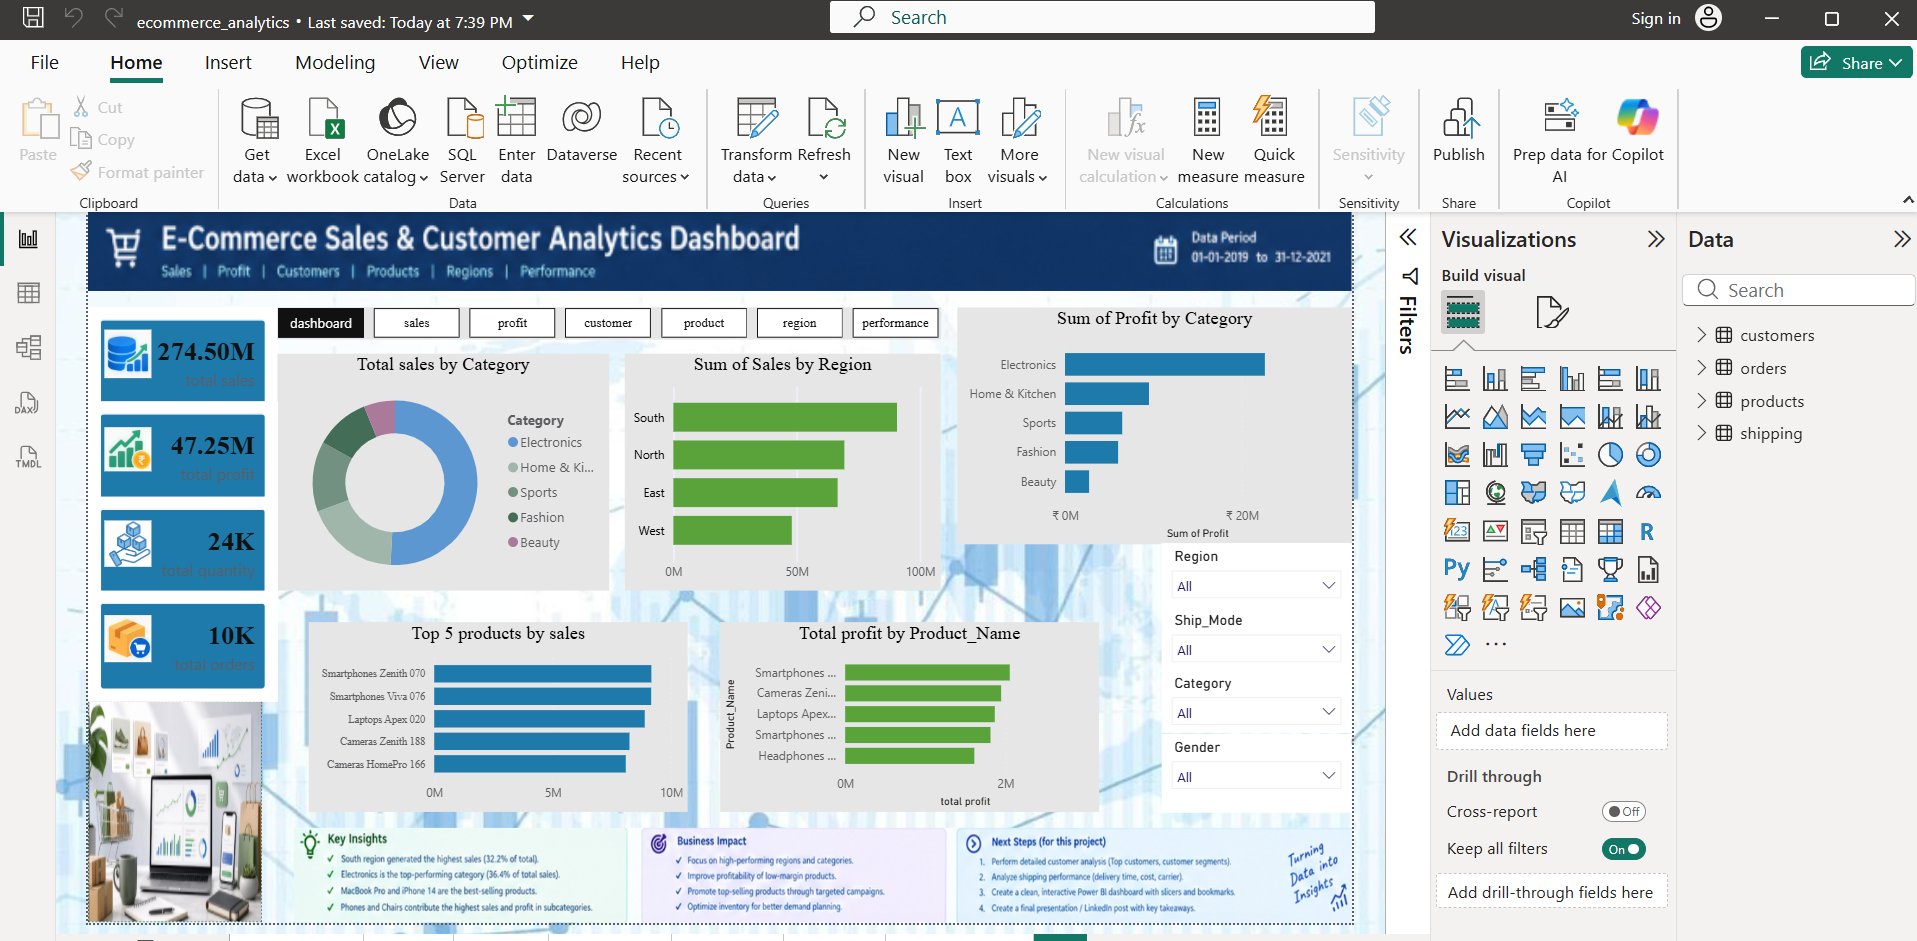

What the dashboard file says about the page in this screenshot:
{"tool":"powerbi","page":{"name":"dashboard","canvas":[1280,720],"ordinal":0},"visuals":[{"type":"cardVisual","fields":{"Data":[" orders.total sales"]},"box":[0,96,192,112],"z":0},{"type":"clusteredBarChart","fields":{"Category":[" customers.Region"],"Y":["Sum( orders.Sales)"]},"box":[544,144,320,240],"z":1000},{"type":"donutChart","title":"Total sales by Category","fields":{"Category":[" products.Category"],"Y":[" orders.total sales"]},"box":[192,144,336,240],"z":2000},{"type":"clusteredBarChart","fields":{"Category":[" products.Category"],"Y":["Sum( orders.Profit)"]},"box":[880,96,400,240],"z":3000},{"type":"image","box":[0,496,176,224],"z":4000},{"type":"image","box":[0,0,1280,80],"z":5000},{"type":"clusteredBarChart","title":"Top 5 products by sales","fields":{"Y":[" orders.total sales"],"Category":[" products.Product_Name"]},"box":[224,416,384,192],"z":6000},{"type":"clusteredBarChart","title":"Total profit by Product_Name","fields":{"Category":[" products.Product_Name"],"Y":[" orders.total profit"]},"box":[640,416,384,192],"z":7000},{"type":"image","box":[16,112,48,64],"z":8000},{"type":"cardVisual","fields":{"Data":[" orders.total profit"]},"box":[0,192,192,112],"z":9000},{"type":"cardVisual","fields":{"Data":[" orders.total quantity"]},"box":[0,288,192,112],"z":10000},{"type":"cardVisual","fields":{"Data":[" orders.total orders"]},"box":[0,384,192,112],"z":11000},{"type":"image","box":[16,208,48,64],"z":12000},{"type":"image","box":[16,400,48,64],"z":13000},{"type":"image","box":[16,304,48,64],"z":14000},{"type":"slicer","fields":{"Values":[" customers.Region"]},"box":[1088,336,192,80],"z":15000},{"type":"slicer","fields":{"Values":[" shipping.Ship_Mode"]},"box":[1088,400,192,80],"z":16000},{"type":"slicer","fields":{"Values":[" products.Category"]},"box":[1088,464,192,64],"z":17000},{"type":"slicer","fields":{"Values":[" customers.Gender"]},"box":[1088,528,192,80],"z":18000},{"type":"image","box":[208,624,1072,96],"z":19000},{"type":"pageNavigator","box":[192,96,672,32],"z":20000}]}

Visuals, with their boxes on the page's 1280x720 design canvas (x1, y1, x2, y2). These are canvas units, not pixel positions in the 1917x941 screenshot, which may show the page scaled, cropped or inside an application window:
cardVisual -  orders.total sales: 0 96 192 208
clusteredBarChart -  customers.Region x Sum( orders.Sales): 544 144 864 384
"Total sales by Category" donutChart: 192 144 528 384
clusteredBarChart -  products.Category x Sum( orders.Profit): 880 96 1280 336
image: 0 496 176 720
image: 0 0 1280 80
"Top 5 products by sales" clusteredBarChart: 224 416 608 608
"Total profit by Product_Name" clusteredBarChart: 640 416 1024 608
image: 16 112 64 176
cardVisual -  orders.total profit: 0 192 192 304
cardVisual -  orders.total quantity: 0 288 192 400
cardVisual -  orders.total orders: 0 384 192 496
image: 16 208 64 272
image: 16 400 64 464
image: 16 304 64 368
slicer -  customers.Region: 1088 336 1280 416
slicer -  shipping.Ship_Mode: 1088 400 1280 480
slicer -  products.Category: 1088 464 1280 528
slicer -  customers.Gender: 1088 528 1280 608
image: 208 624 1280 720
pageNavigator: 192 96 864 128
